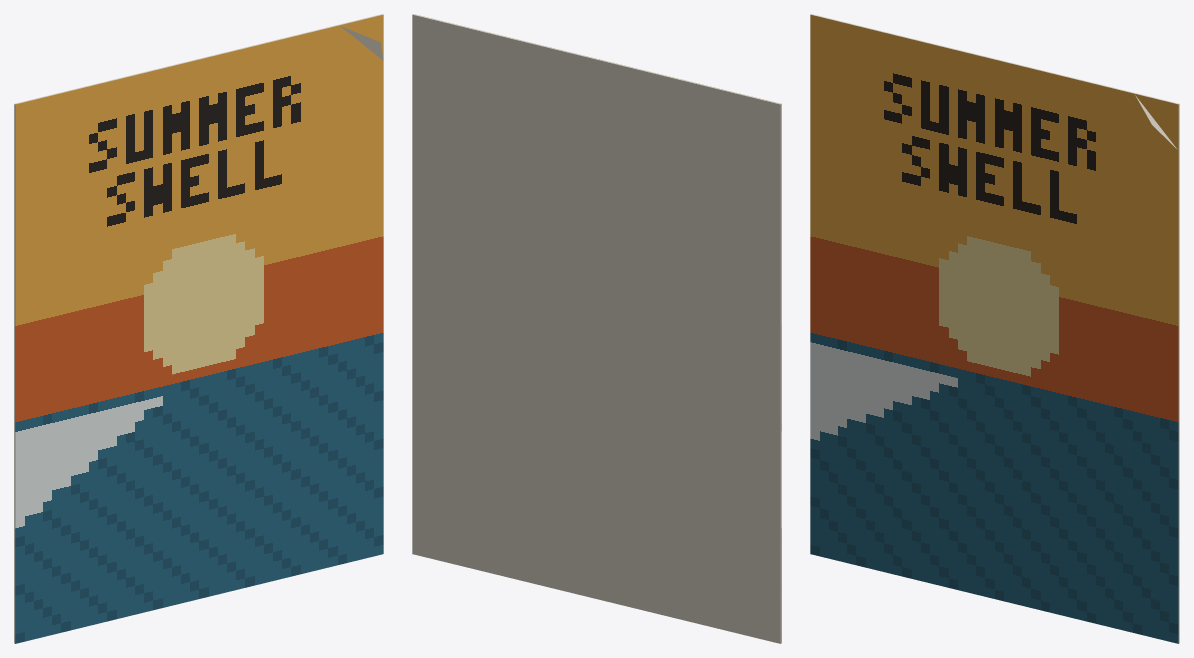
Rendered from poster_surf.glb.
The picture shows the model from 3 angles, left to right: view 1: azimuth 30°, elevation 25°; view 2: azimuth 150°, elevation 25°; view 3: azimuth 330°, elevation 25°; orthographic projection.
Parts seen in each view (by area): view 1: Poster_surf; view 2: Poster_surf; view 3: Poster_surf.
Part boxes in pixels (x1=…): Poster_surf: x1=14, y1=14, x2=383, y2=643; Poster_surf: x1=412, y1=14, x2=781, y2=643; Poster_surf: x1=810, y1=14, x2=1179, y2=643.
Size of the model in its own units: 0.5 by 0.7 by 0.03.
Materials: 2 (1 with a texture image).
